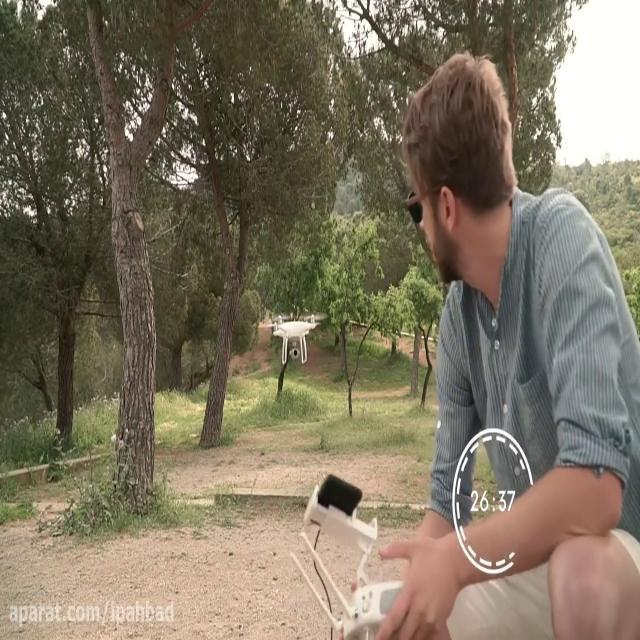drone: (262, 310, 328, 366)
